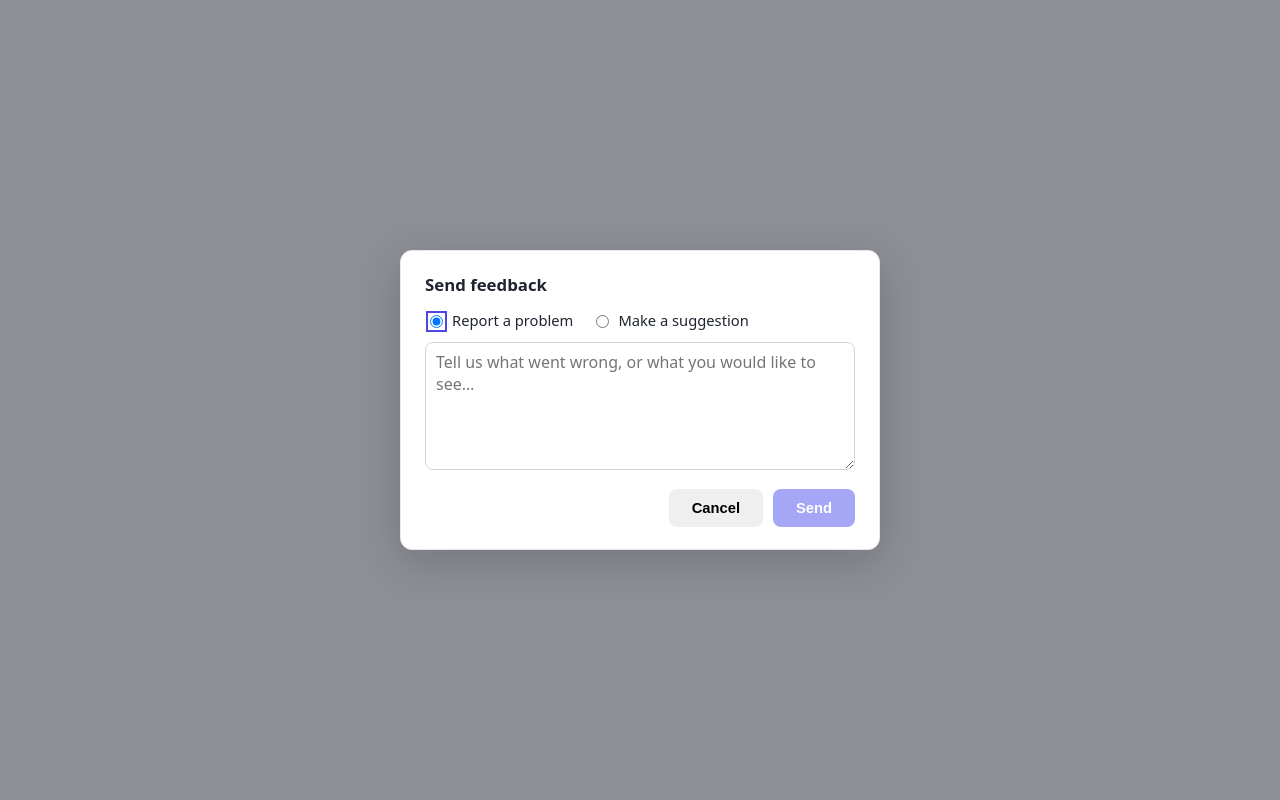
Test: FeedbackModal › any other failure keeps the draft and re-enables send
The image size is (1280, 800).
Type "my precious repro steps" into the text box named "feedback" at (640, 406), box [425,342,855,470]
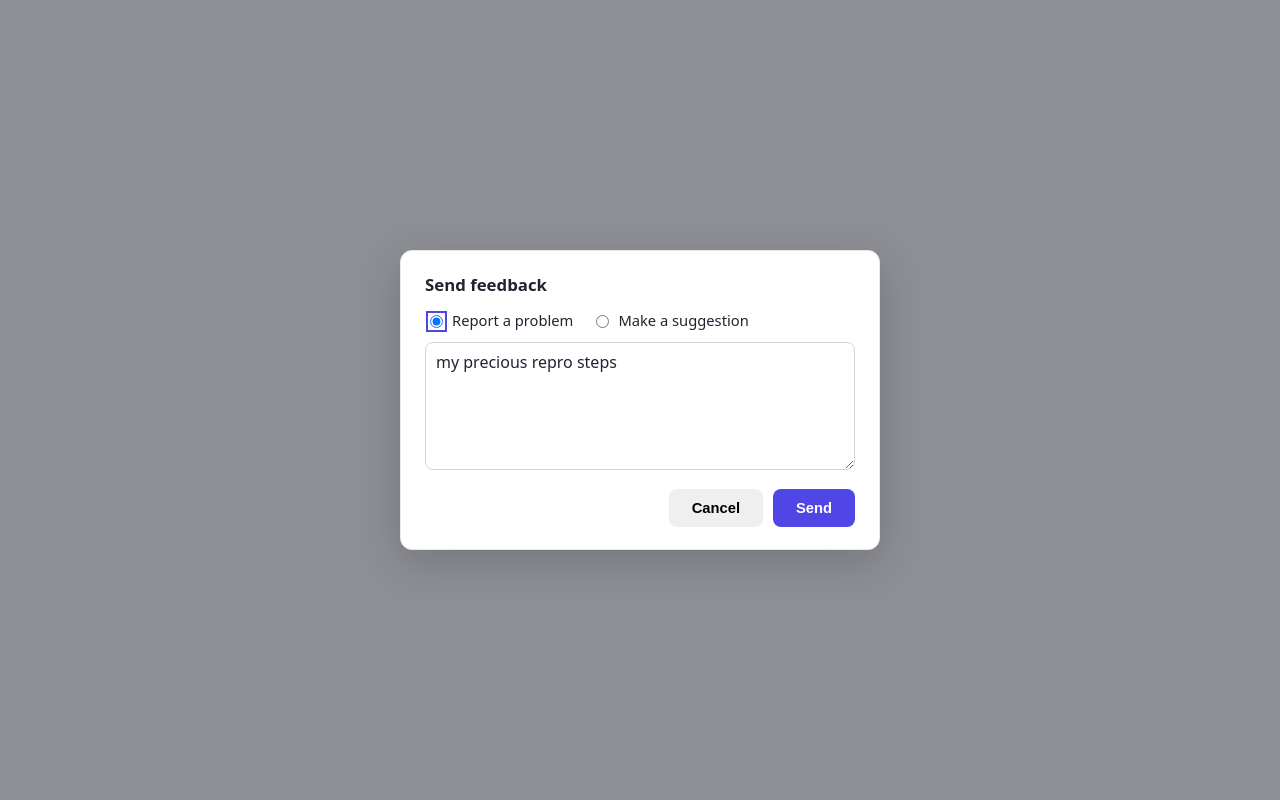
Click the button "Send" at (814, 508), box [773,489,855,527]
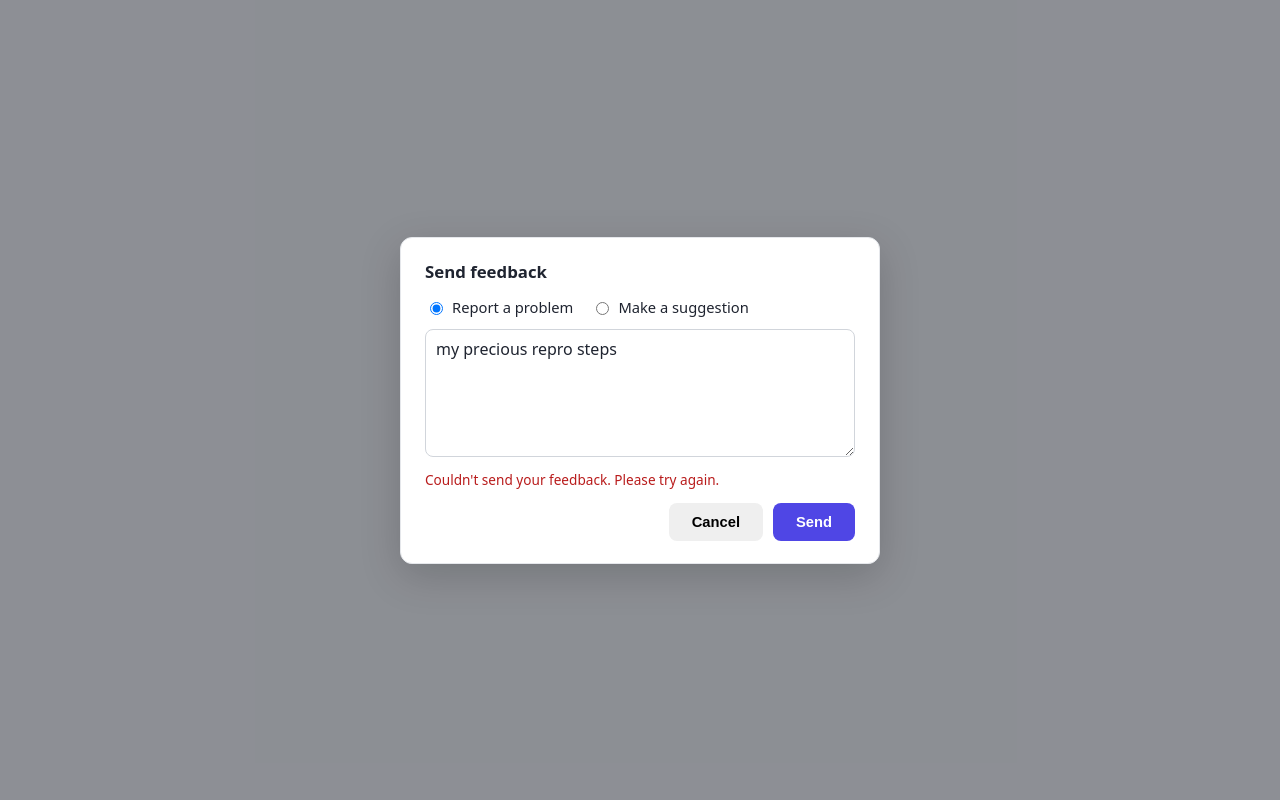
Expected: the button "Send" is enabled, [773,502,855,540]
Expected: the text "Couldn't send your feedback. Please try again." is shown, [425,470,719,488]
